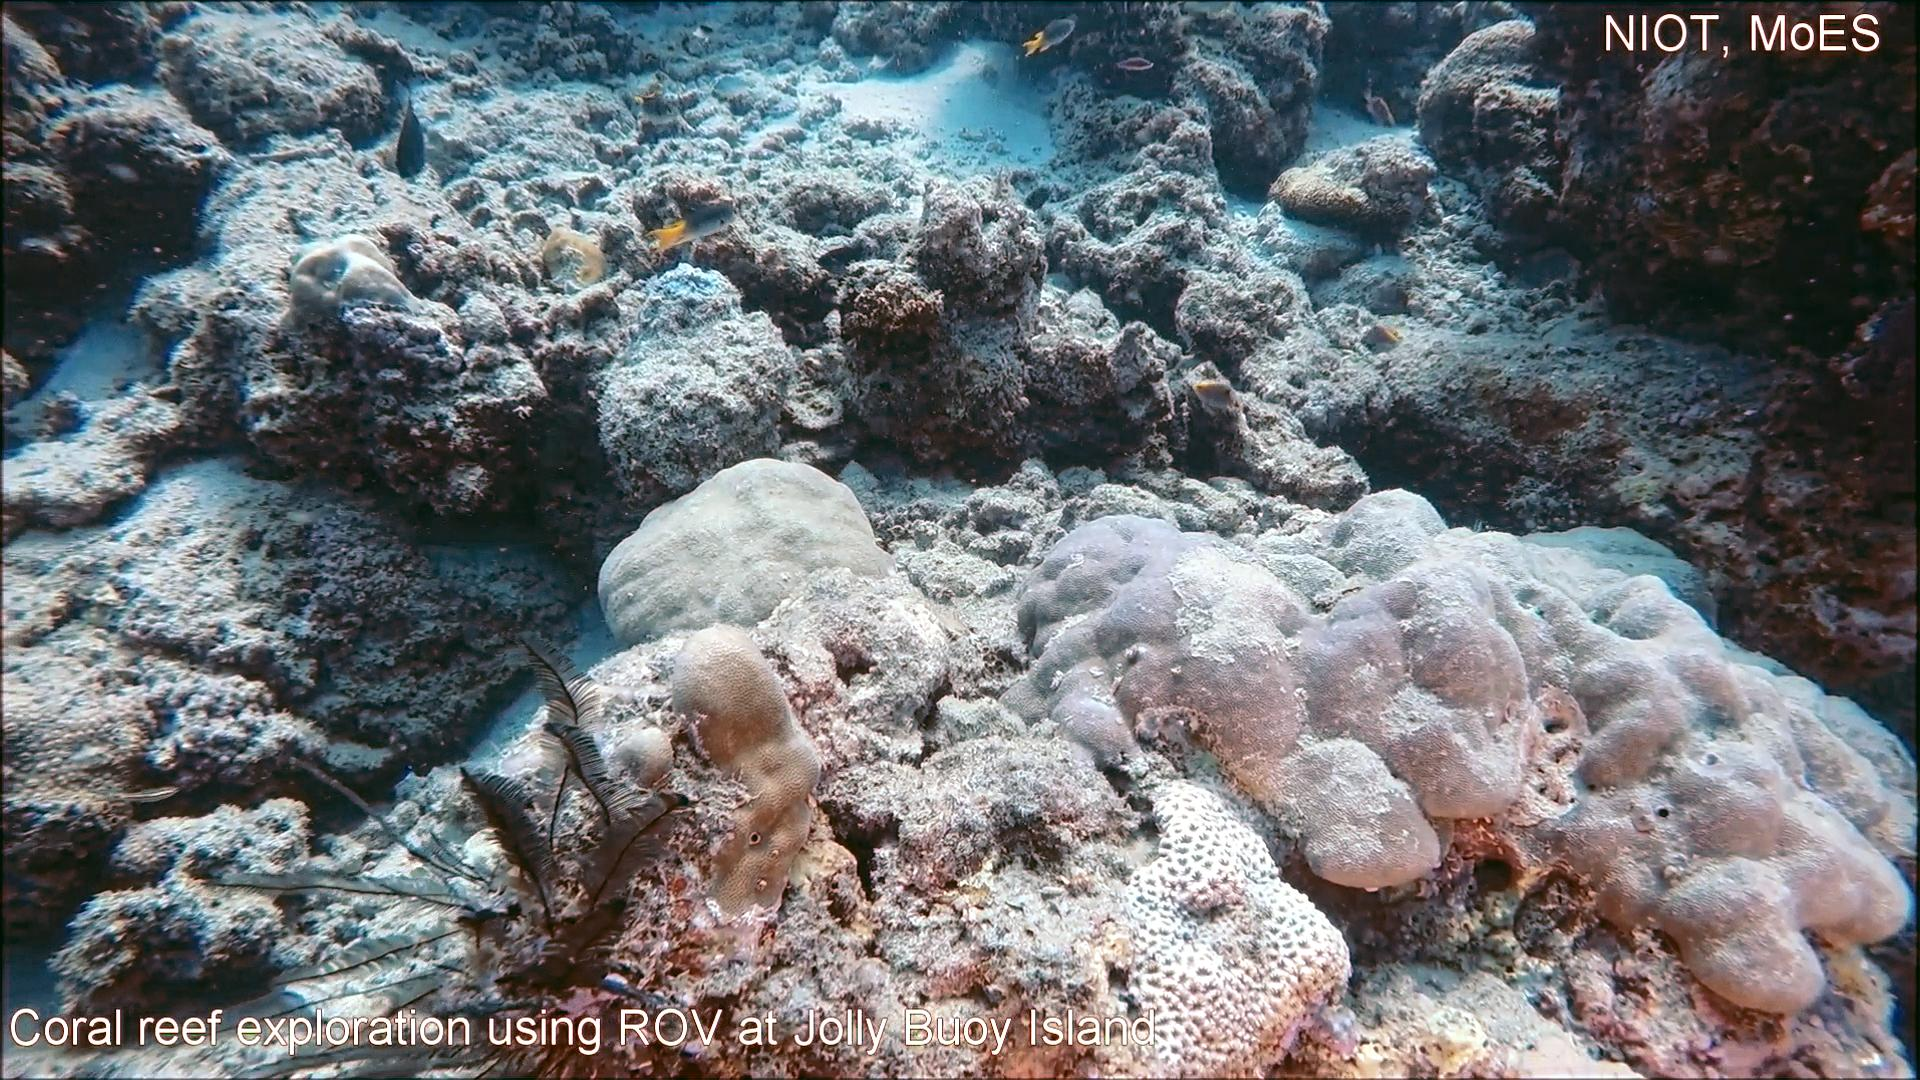Feather star-Crinoid star: (194, 616, 711, 1080)
Goniastrea-Goniastrea pectinata: (1116, 766, 1361, 1080)
Porites-Porites pukoensis: (1402, 480, 1920, 1029)
Turbinaria-Turbinaria stellulata: (0, 666, 170, 847)
